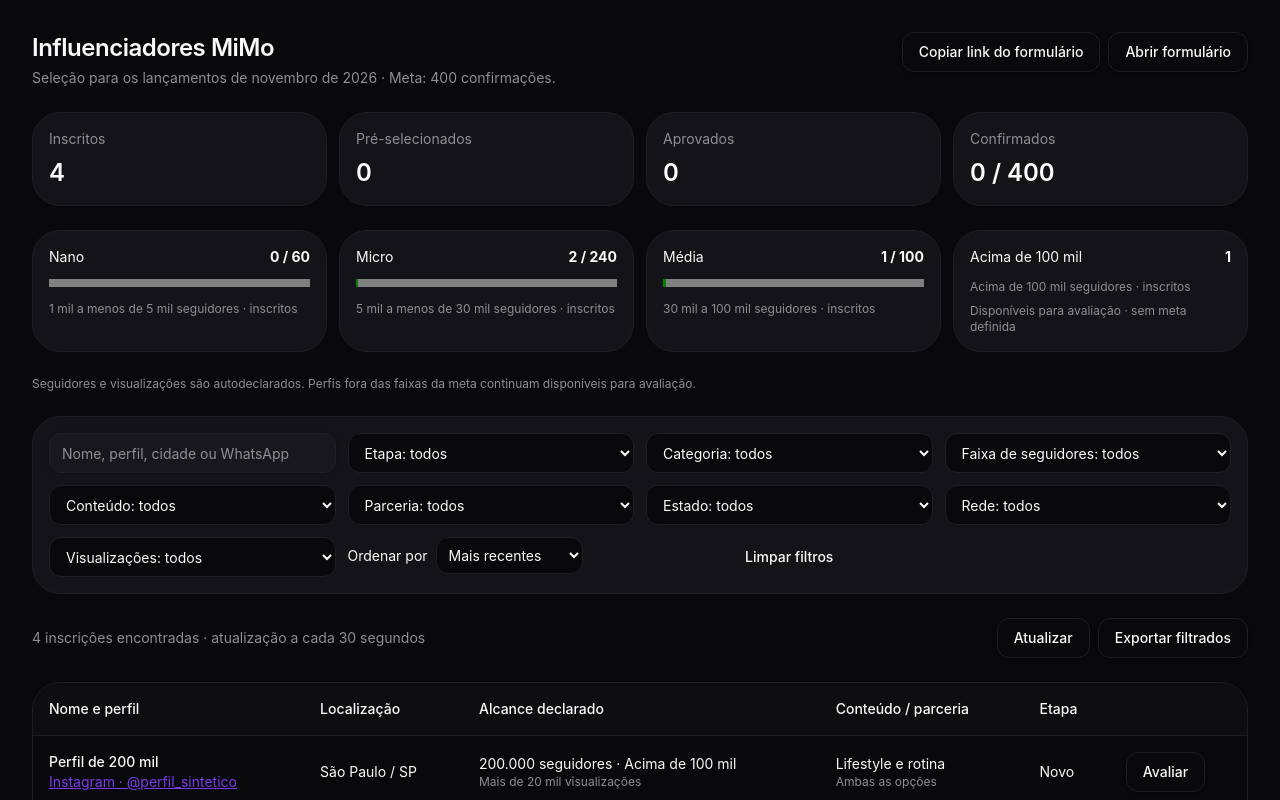
conta e filtra o perfil de 200 mil sem misturá-lo à faixa até 100 mil
Check: the text "Perfil de 200 mil" is shown, box [49,753,158,770]
Check: the text "1" is shown, box [1225,247,1231,267]
Select "Acima de 100 mil" in the dropdown named "Faixa de seguidores" at (1088, 453), box [944,433,1231,473]
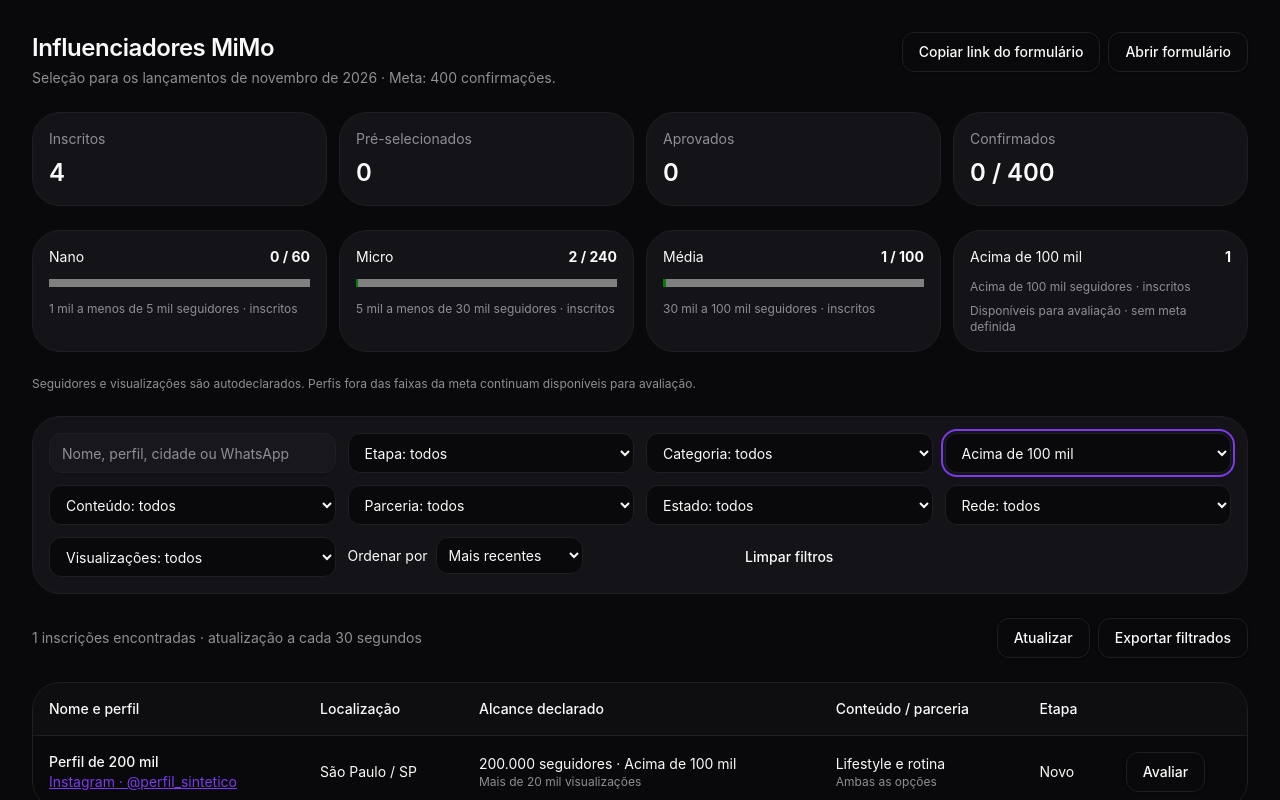
Check: the text "Perfil de 200 mil" is shown, box [49,753,158,770]
Select "Mais de 50 mil até 100 mil" in the dropdown named "Faixa de seguidores" at (1088, 453), box [944,433,1231,473]
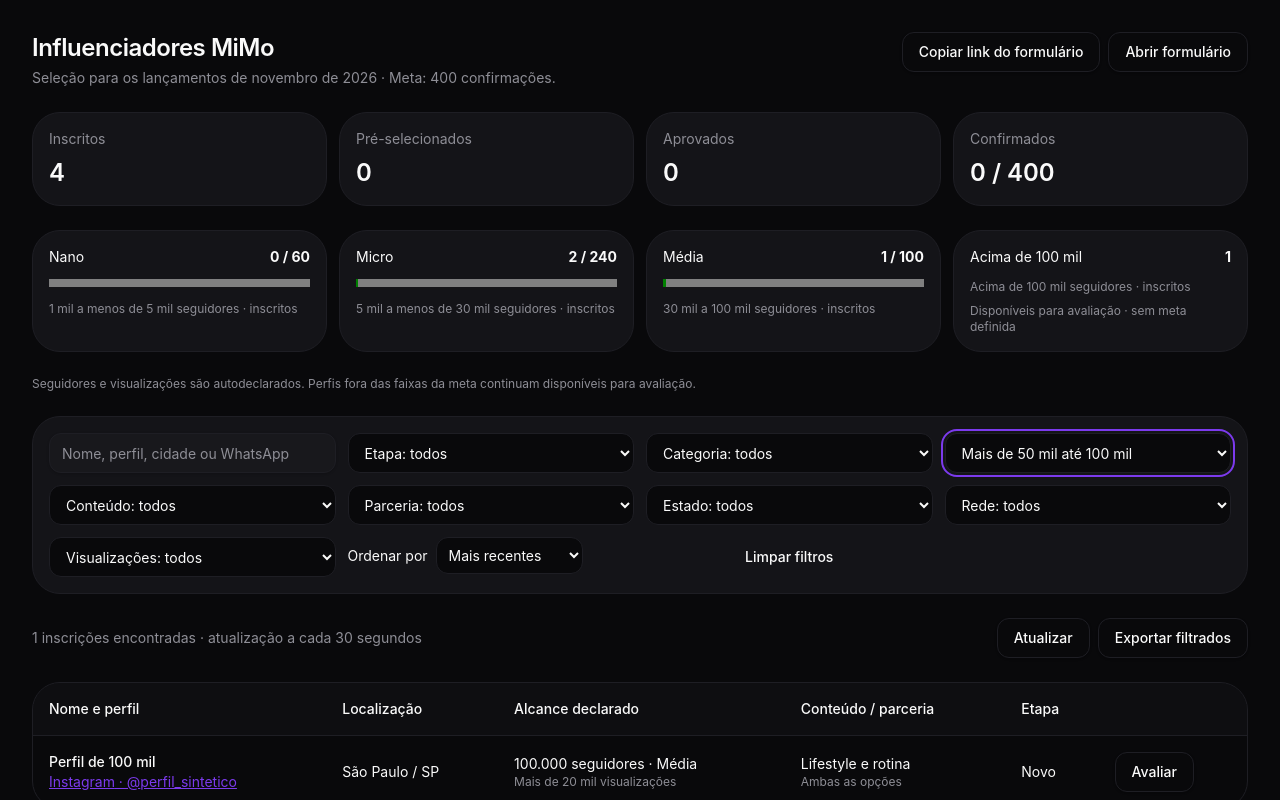
Check: the text "Perfil de 100 mil" is shown, box [49,753,156,770]
Check: the text "Perfil de 200 mil" is gone
Select "20 mil ou mais" in the dropdown named "Faixa de seguidores" at (1088, 453), box [944,433,1231,473]
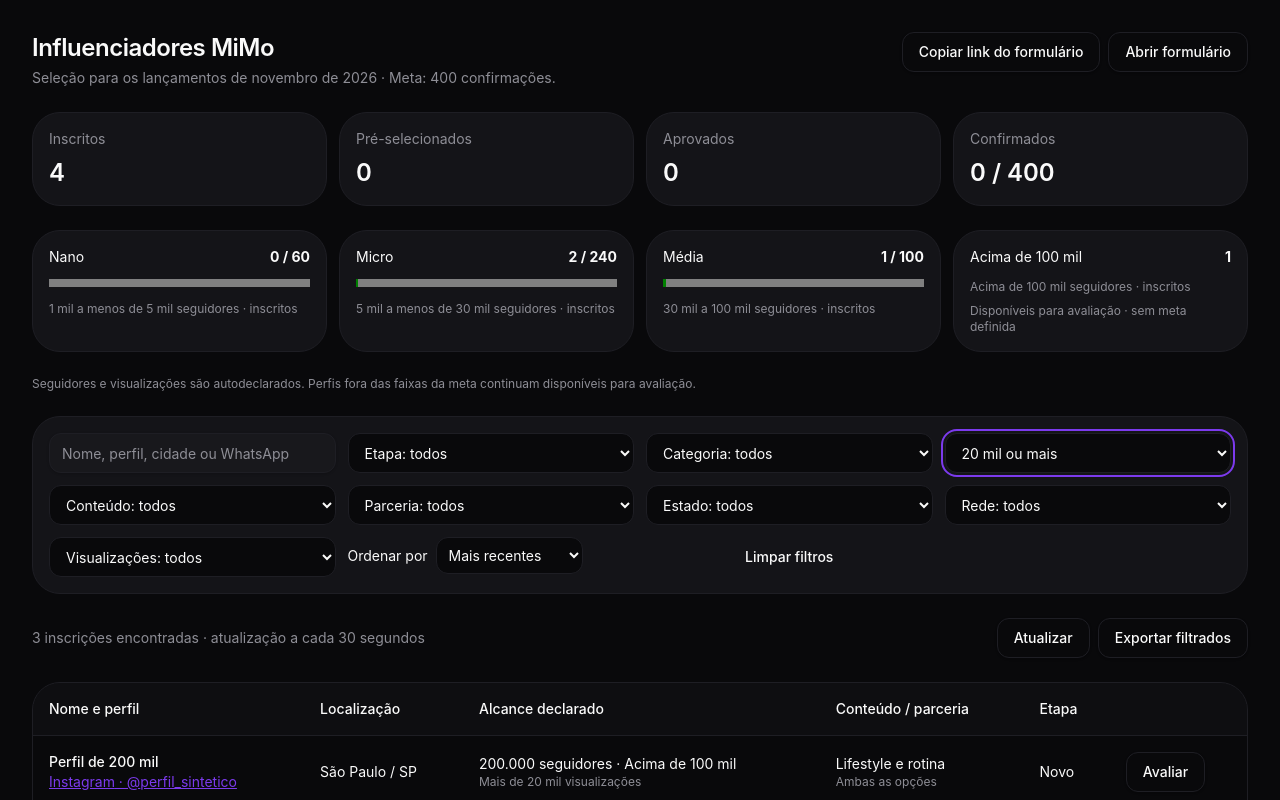
Check: the text "Perfil de 200 mil" is shown, box [49,753,158,770]
